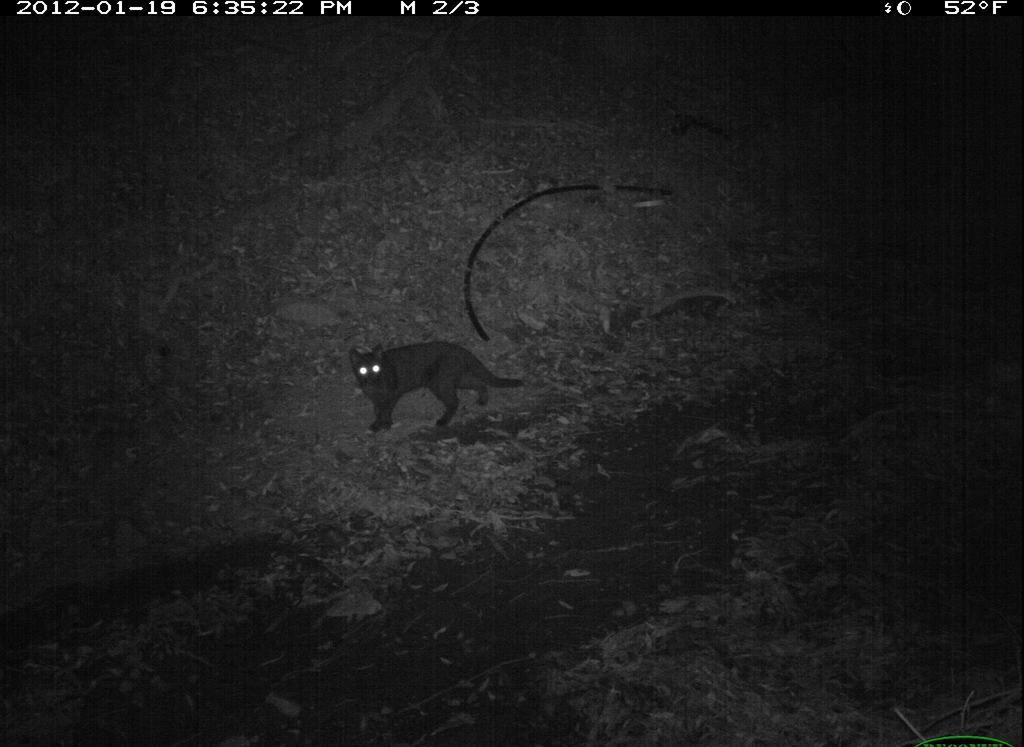cat: (340, 331, 536, 442)
